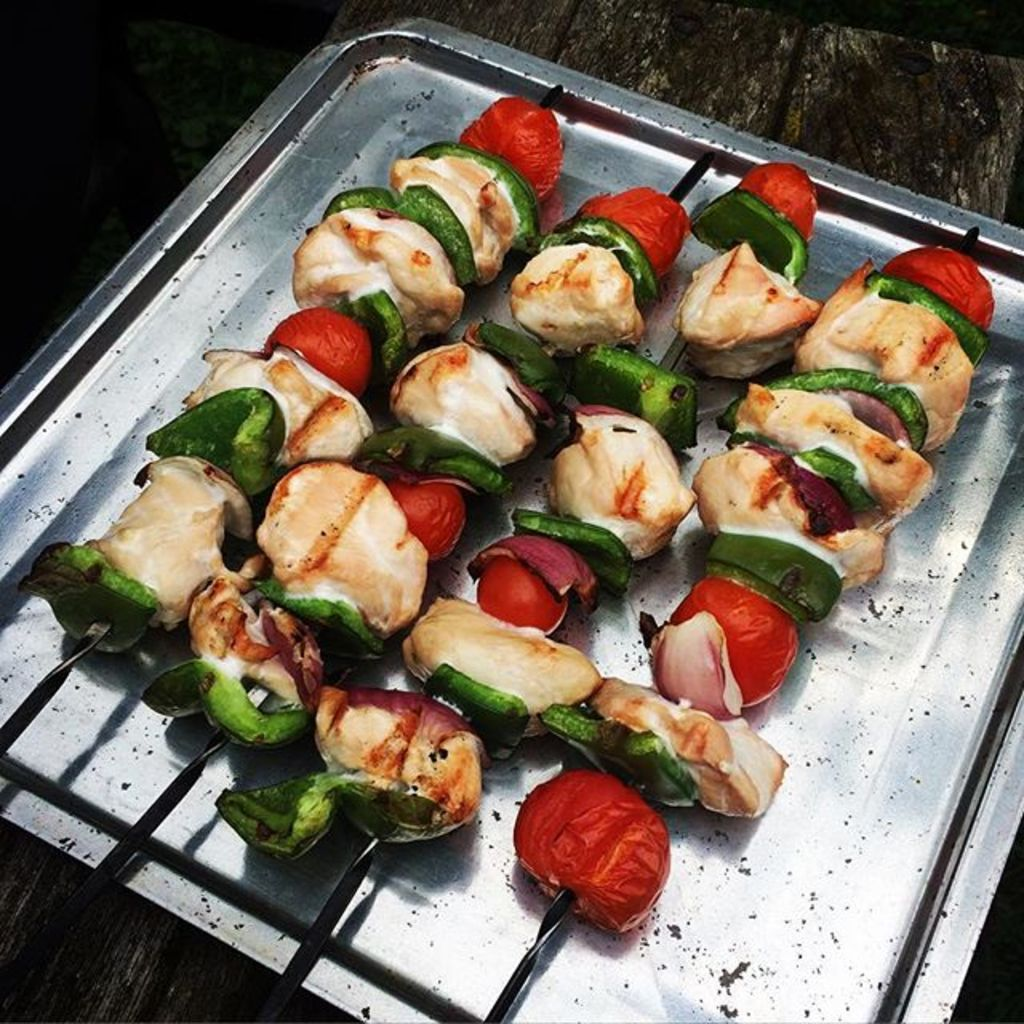Tomato: (514, 765, 672, 930), (670, 576, 796, 707), (459, 94, 561, 194), (579, 189, 689, 280), (882, 244, 991, 331), (264, 310, 372, 392), (478, 554, 565, 634), (737, 163, 815, 239), (388, 481, 466, 556)
